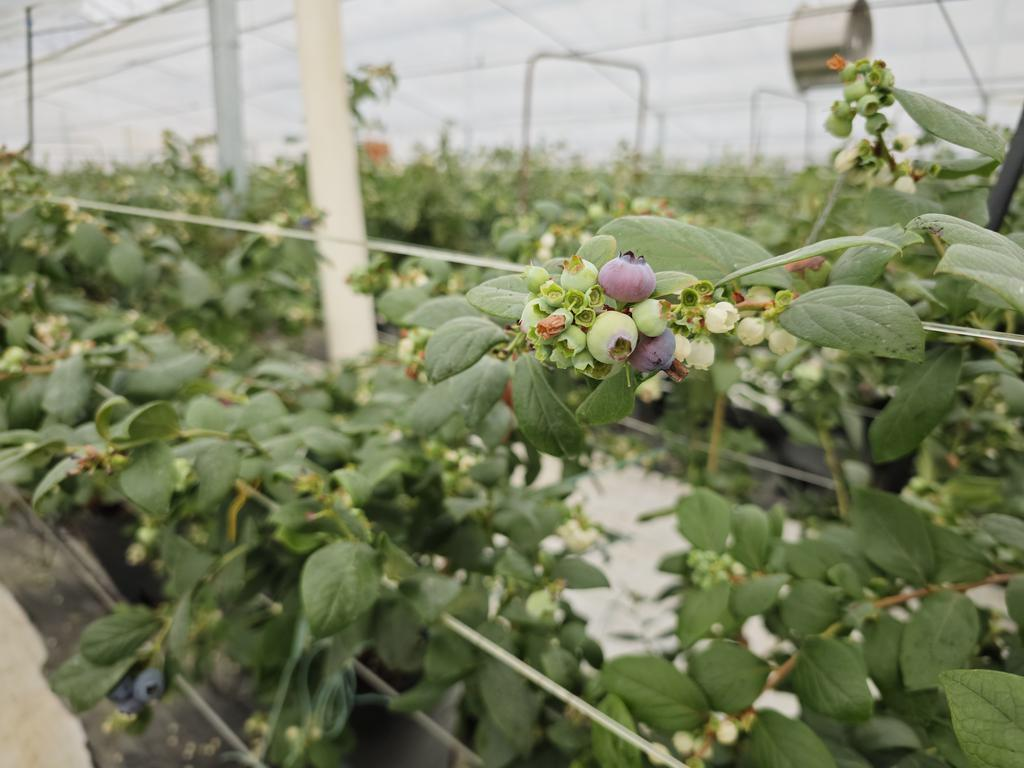Semi-RipeBlueBerry: (598, 252, 659, 303)
UnripeBlueBerry: (586, 312, 640, 367)
